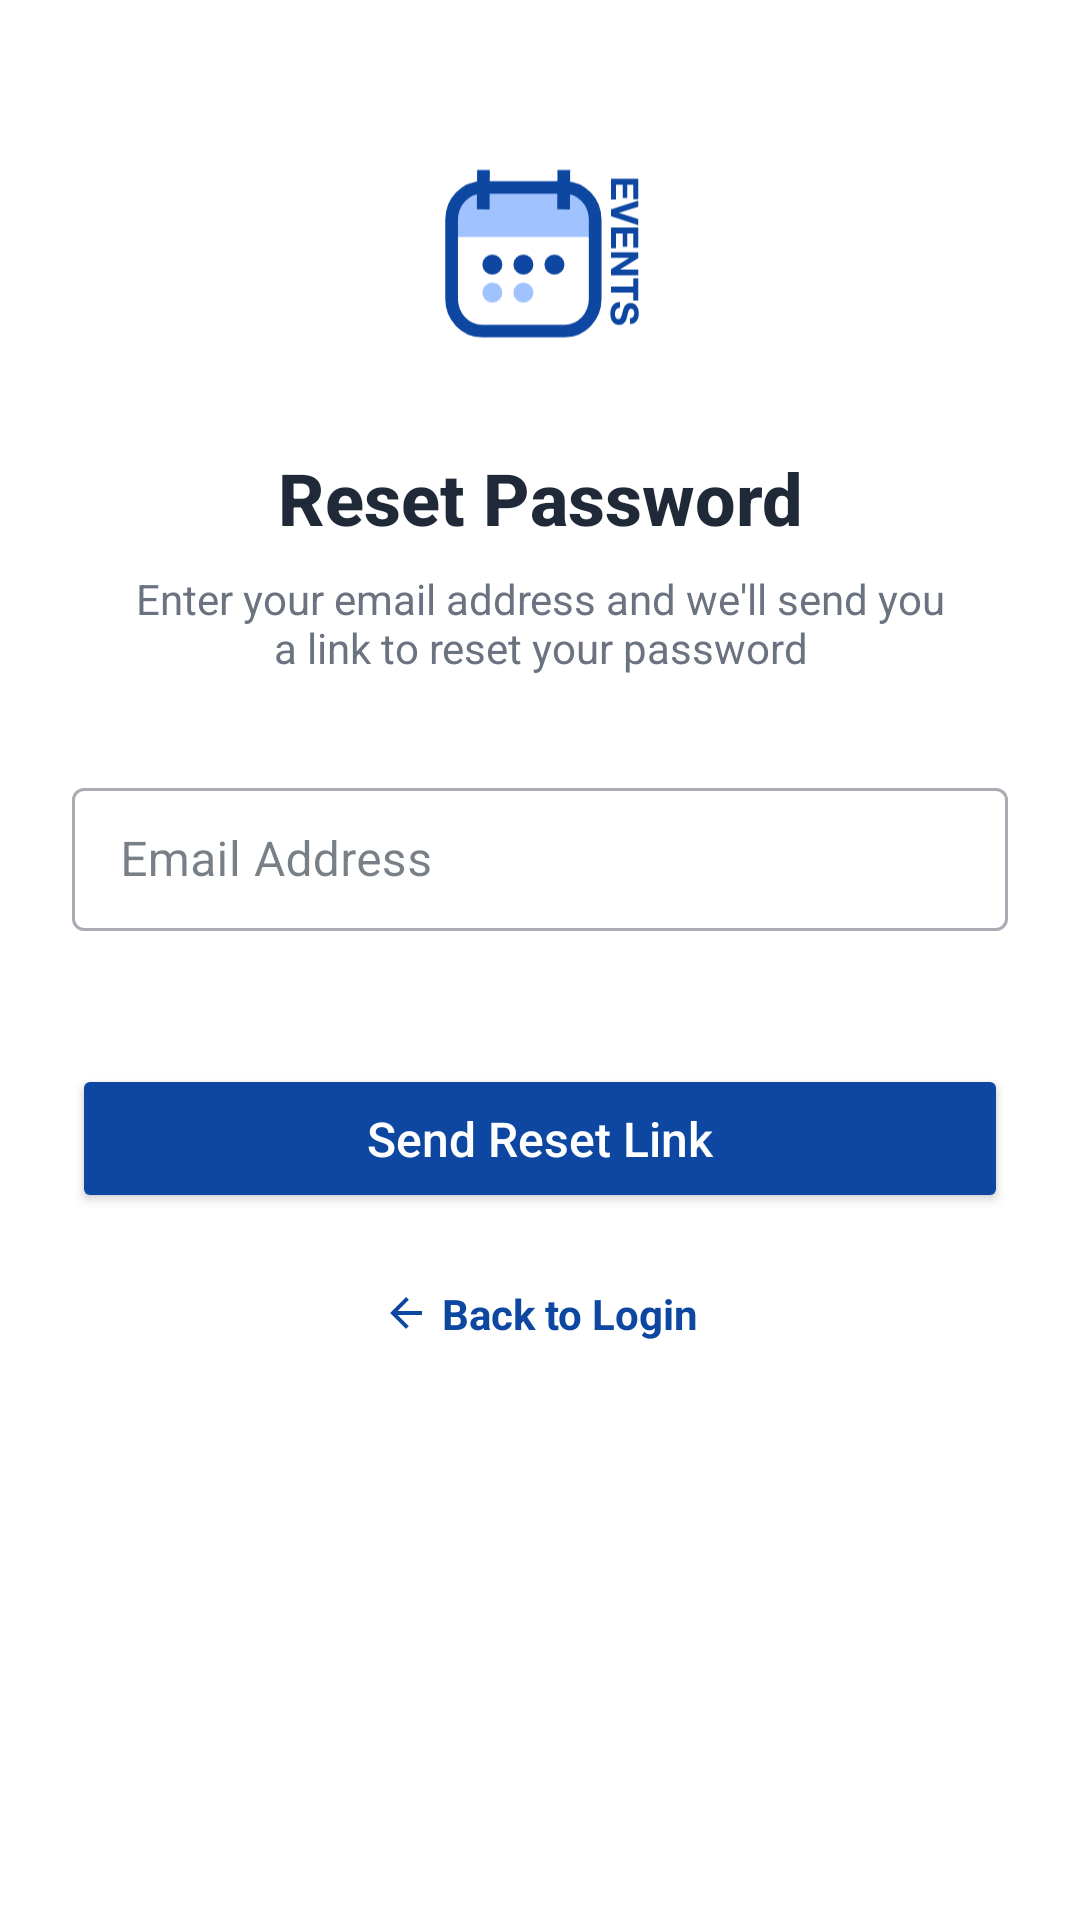

Icon bounding boxes for this 1080×1920 phone screenshot, format (x1, y1, x2, y2):
arrow back: (390, 1297, 422, 1329)
